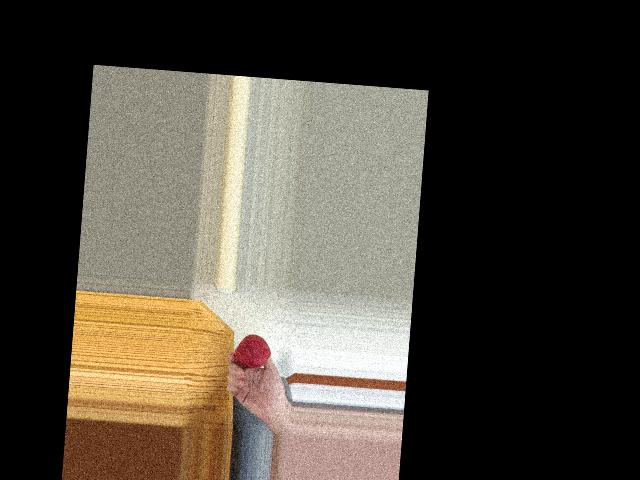apple: (235, 333, 272, 368)
